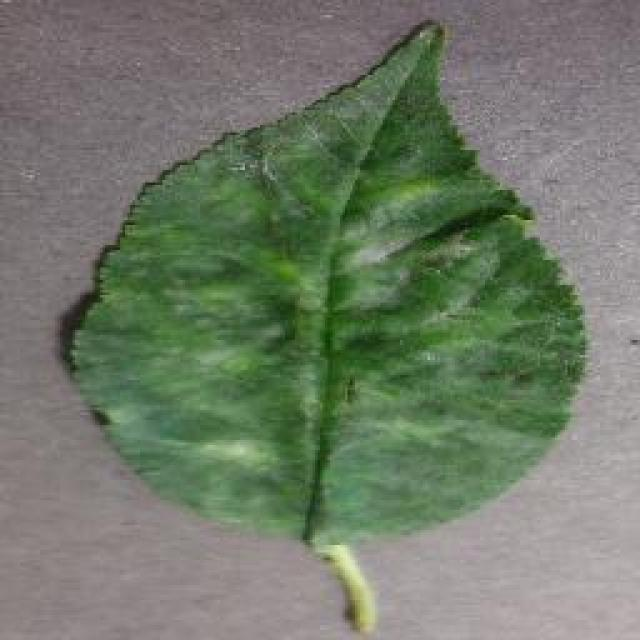Cherry___Powdery_mildew: (125, 86, 554, 526)
